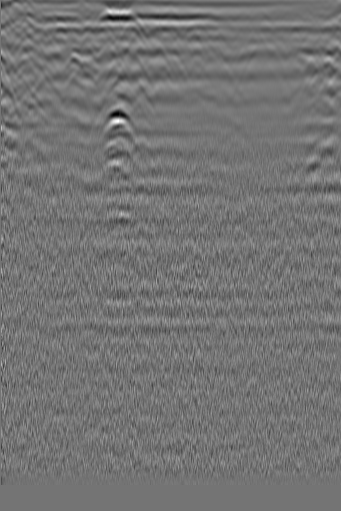가스: (99, 105, 135, 144)
상수: (15, 33, 44, 75)
오수: (287, 44, 314, 65)
우수: (143, 22, 185, 48)
